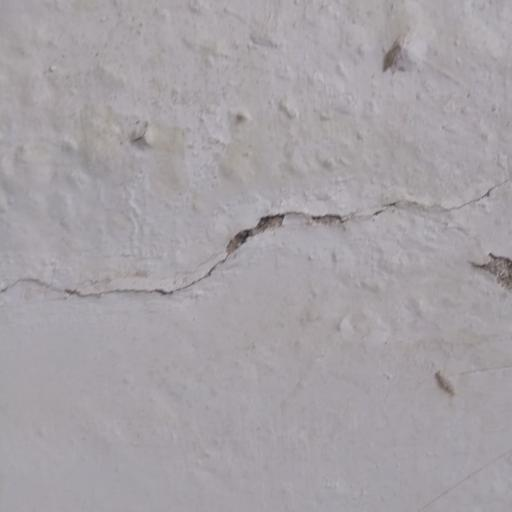minor_crack: (0, 180, 512, 309)
